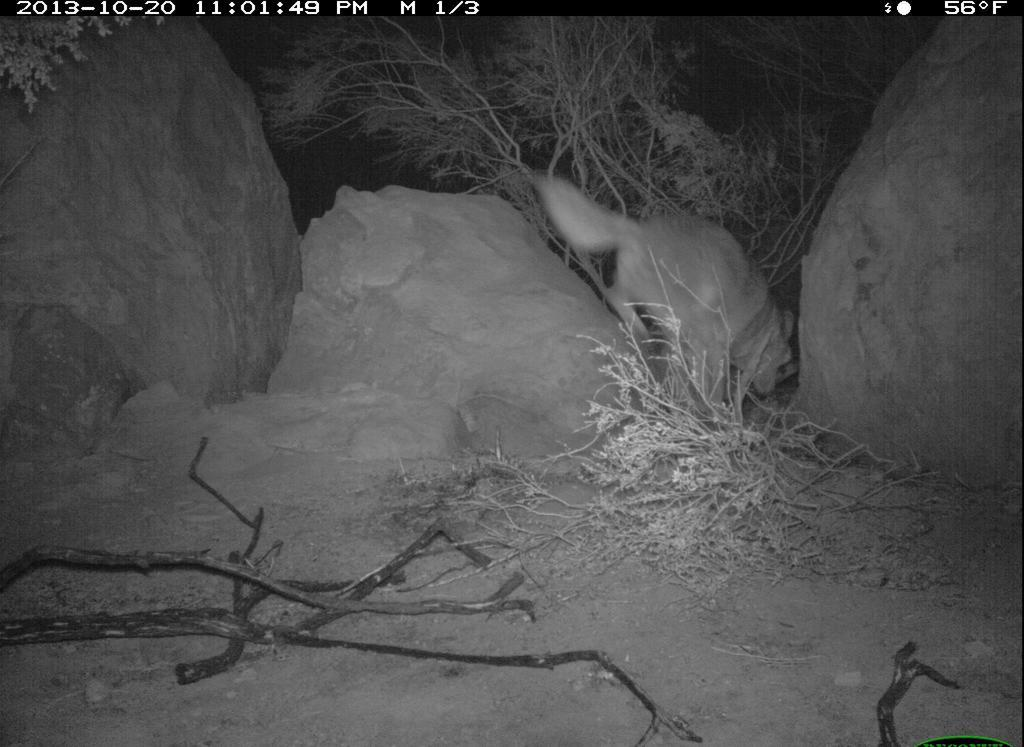badger: (769, 354, 806, 388)
coyote: (521, 164, 792, 424)
